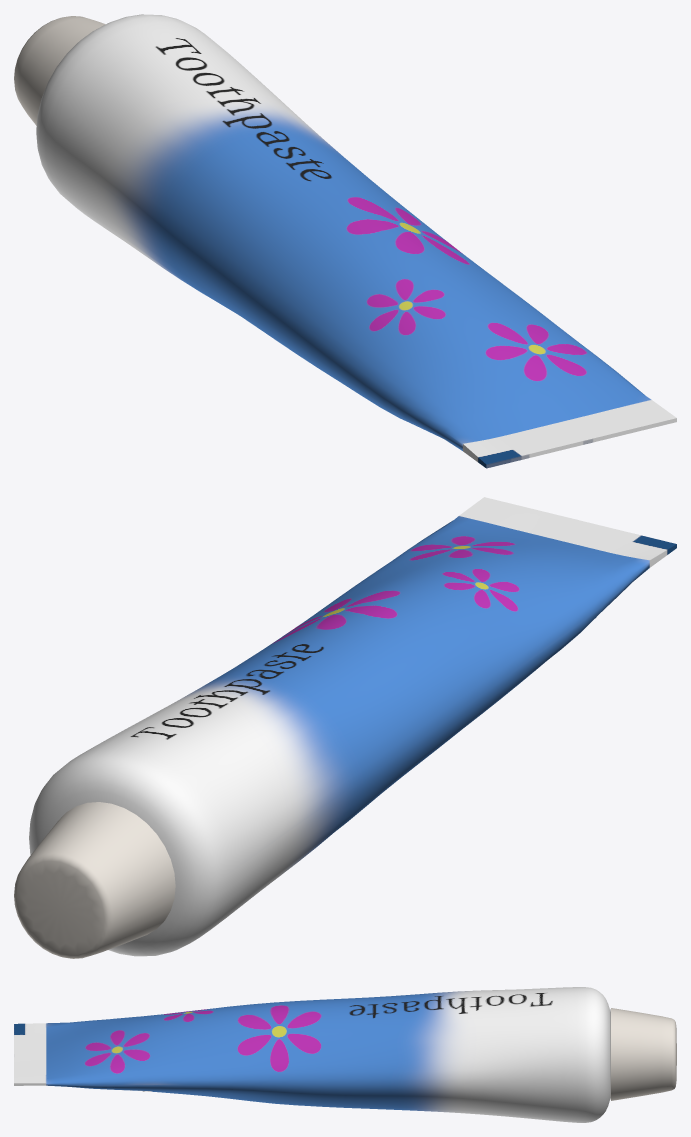
The model's file is Toothpaste_Sketchfab.fbx.
The picture shows the model from 3 angles, top to bottom: view 1: azimuth 30°, elevation 25°; view 2: azimuth 150°, elevation 25°; view 3: azimuth 270°, elevation 25°; orthographic projection. The views are drawn at different scales.
Parts seen in each view (by area): view 1: Tube_LOD0.001, Cap_LOD0.001; view 2: Tube_LOD0.001, Cap_LOD0.001; view 3: Tube_LOD0.001, Cap_LOD0.001.
Boxes of the visible parts, x1,y1,x2,y2 form: Tube_LOD0.001: (36, 14, 676, 468); Cap_LOD0.001: (14, 16, 105, 125); Tube_LOD0.001: (29, 497, 676, 956); Cap_LOD0.001: (14, 802, 175, 958); Tube_LOD0.001: (14, 987, 610, 1122); Cap_LOD0.001: (610, 1008, 676, 1100).
Size of what is drawn, in the model's own units: 0.0283 by 0.1279 by 0.0262.
1 material, 1 textured.
